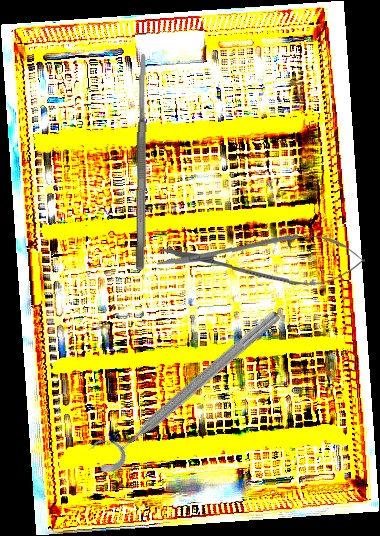Fixation Ring: (83, 294, 286, 479)
Micro Scissor: (156, 230, 366, 287)
Spatula Surgical: (134, 51, 150, 271)
